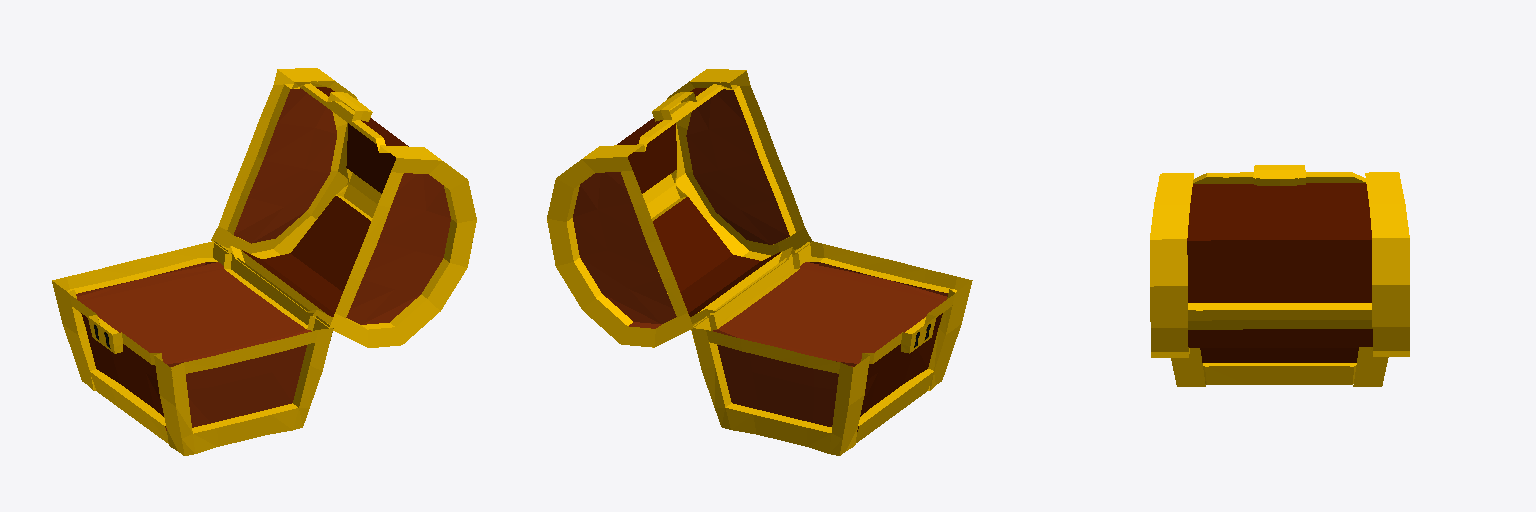
3 renders of one model, left to right at view 1: azimuth 30°, elevation 25°; view 2: azimuth 150°, elevation 25°; view 3: azimuth 270°, elevation 25°, orthographic.
Parts seen in each view (by area): view 1: Chest_Top.001_ChestTop_ChestTop_Cube.002, Chest_Bottom.001_ChestBottom_ChestBotton_Cube.001; view 2: Chest_Top.001_ChestTop_ChestTop_Cube.002, Chest_Bottom.001_ChestBottom_ChestBotton_Cube.001; view 3: Chest_Top.001_ChestTop_ChestTop_Cube.002, Chest_Bottom.001_ChestBottom_ChestBotton_Cube.001.
Part boxes in pixels (left/top/right/bottom): Chest_Top.001_ChestTop_ChestTop_Cube.002: left=211, top=68, right=476, bottom=347; Chest_Bottom.001_ChestBottom_ChestBotton_Cube.001: left=52, top=241, right=333, bottom=455; Chest_Top.001_ChestTop_ChestTop_Cube.002: left=547, top=69, right=812, bottom=347; Chest_Bottom.001_ChestBottom_ChestBotton_Cube.001: left=691, top=241, right=972, bottom=455; Chest_Top.001_ChestTop_ChestTop_Cube.002: left=1150, top=165, right=1409, bottom=357; Chest_Bottom.001_ChestBottom_ChestBotton_Cube.001: left=1171, top=347, right=1388, bottom=386.
Bounding box in the file's own units: 31.86 × 25.99 × 23.
Materials: 1 (1 with a texture image).